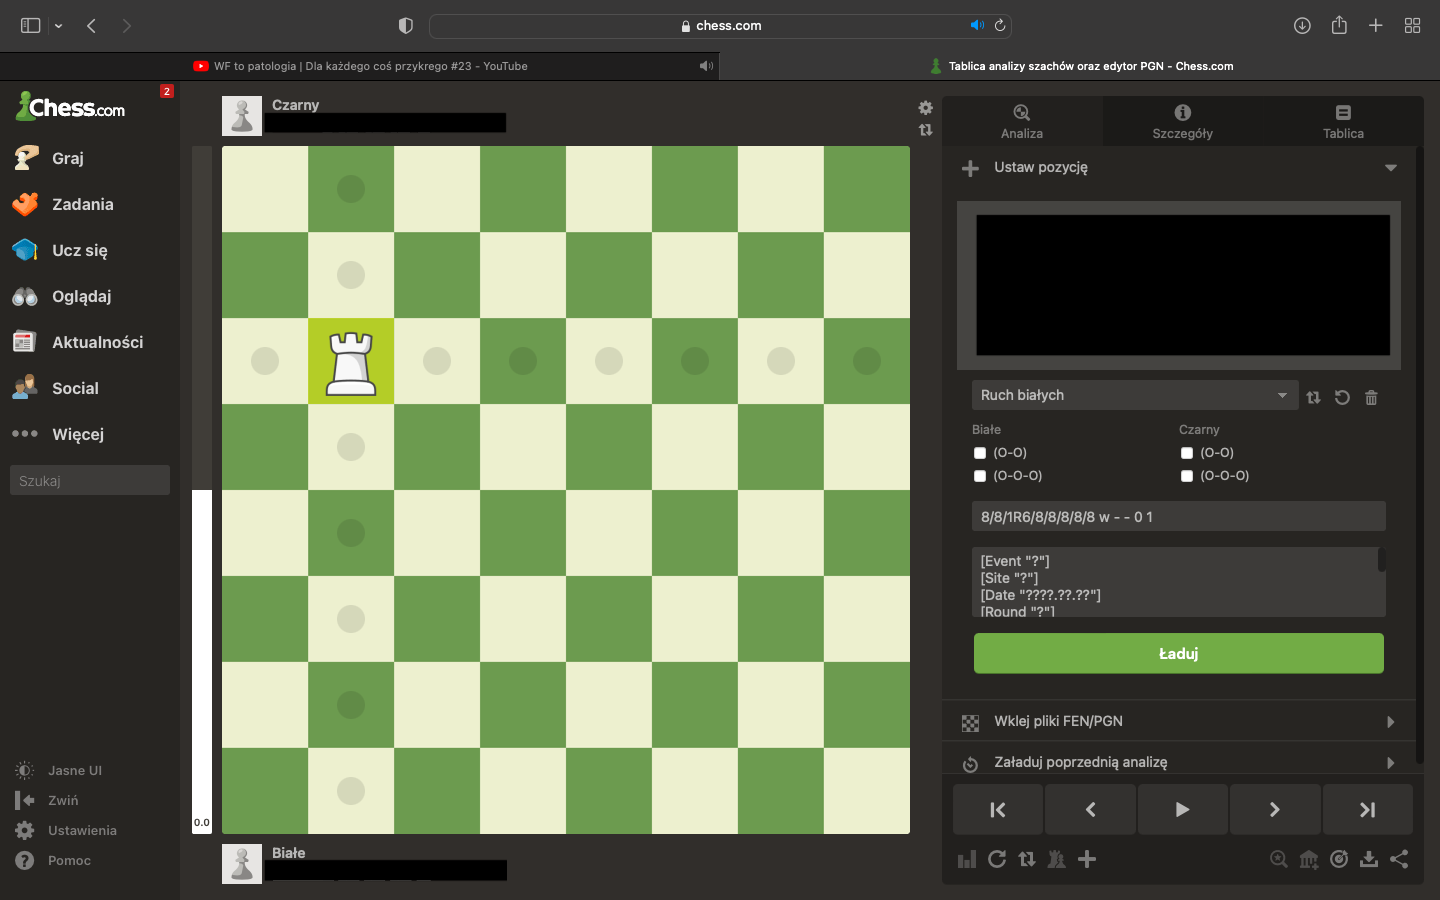white_rook: (324, 331, 377, 397)
